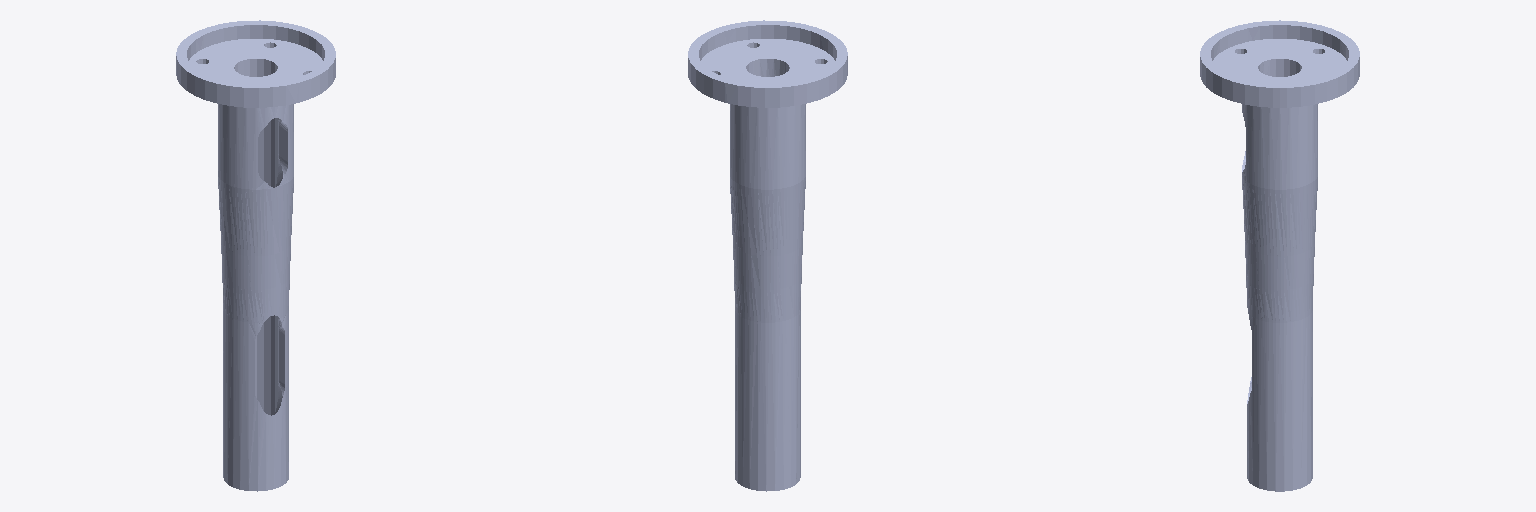
URDF robot description (tool2):
<?xml version="1.0" encoding="utf-8"?>
<!-- This URDF was automatically created by SolidWorks to URDF Exporter! Originally created by Stephen Brawner (brawner@gmail.com) 
     Commit Version: 1.6.0-4-g7f85cfe  Build Version: 1.6.7995.38578
     For more information, please see http://wiki.ros.org/sw_urdf_exporter -->
<robot
  name="tool2">
  <link
    name="tool_base_link">
    <inertial>
      <origin
        xyz="-2.0196E-07 0.00096714 -0.077394"
        rpy="0 0 0" />
      <mass
        value="0.11043" />
      <inertia
        ixx="0.00047763"
        ixy="-1.2171E-10"
        ixz="-1.6679E-10"
        iyy="0.00047889"
        iyz="7.8273E-07"
        izz="3.3488E-05" />
    </inertial>
    <visual>
      <origin
        xyz="0 0 0"
        rpy="0 0 0" />
      <geometry>
        <mesh
          filename="package://tool2/meshes/tool_base_link.STL" />
      </geometry>
      <material
        name="">
        <color
          rgba="0.79216 0.81961 0.93333 1" />
      </material>
    </visual>
    <collision>
      <origin
        xyz="0 0 0"
        rpy="0 0 0" />
      <geometry>
        <mesh
          filename="package://tool2/meshes/tool_base_link.STL" />
      </geometry>
    </collision>
  </link>
</robot>

--- Render facts (derived) ---
3 views of the same robot in one strip: view 1: azimuth 30°, elevation 25°; view 2: azimuth 150°, elevation 25°; view 3: azimuth 270°, elevation 25° (orthographic).
Robot: tool2 — 1 links, 0 joints (none); root link tool_base_link; default pose: all joints at 0.
Visible links, largest first — view 1: tool_base_link; view 2: tool_base_link; view 3: tool_base_link.
Boxes of the visible links, left/top/right/bottom form: tool_base_link: left=176, top=20, right=335, bottom=491; tool_base_link: left=688, top=20, right=847, bottom=491; tool_base_link: left=1200, top=20, right=1359, bottom=491.
Size in the robot's own frame: 0.073 by 0.073 by 0.213 metres.
1 mesh visuals loaded from 1 distinct referenced files (1 binary STL).
